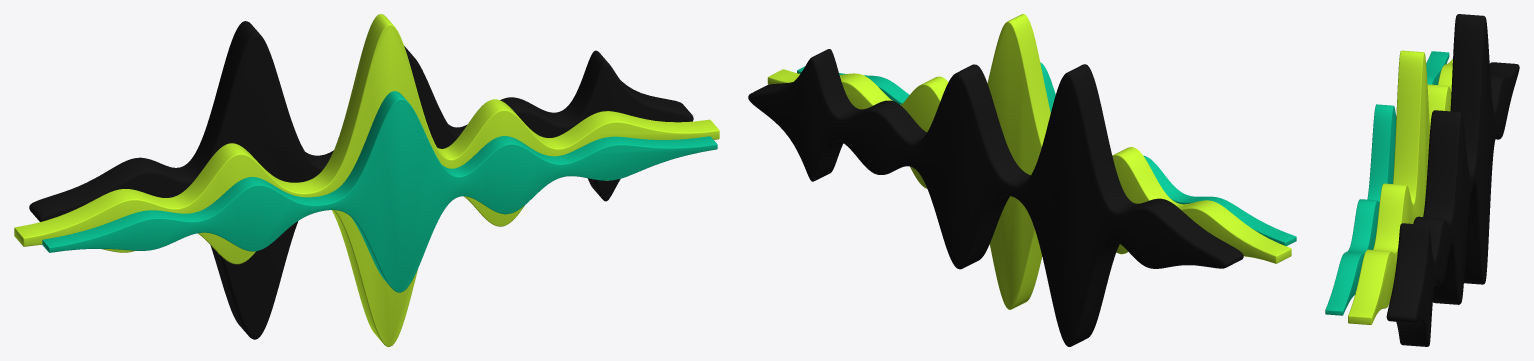
The model's file is audio-waves-3d-animated-icon-1675778061368.glb.
3 renders of one model, left to right at view 1: azimuth 30°, elevation 25°; view 2: azimuth 150°, elevation 25°; view 3: azimuth 270°, elevation 25°, orthographic. The views are drawn at different scales.
Parts seen in each view (by area): view 1: NurbsPath.134, NurbsPath.132, NurbsPath.133; view 2: NurbsPath.133, NurbsPath.132, NurbsPath.134; view 3: NurbsPath.133, NurbsPath.132, NurbsPath.134.
Part boxes in pixels (x1,y1,x2,y2): NurbsPath.134: (42, 91, 717, 292); NurbsPath.132: (14, 14, 719, 346); NurbsPath.133: (29, 21, 693, 339); NurbsPath.133: (748, 49, 1243, 346); NurbsPath.132: (767, 14, 1291, 309); NurbsPath.134: (797, 62, 1296, 246); NurbsPath.133: (1386, 14, 1519, 346); NurbsPath.132: (1348, 50, 1452, 324); NurbsPath.134: (1325, 51, 1449, 315).
Size of the model in its own units: 5.8 by 2.81 by 1.75.
